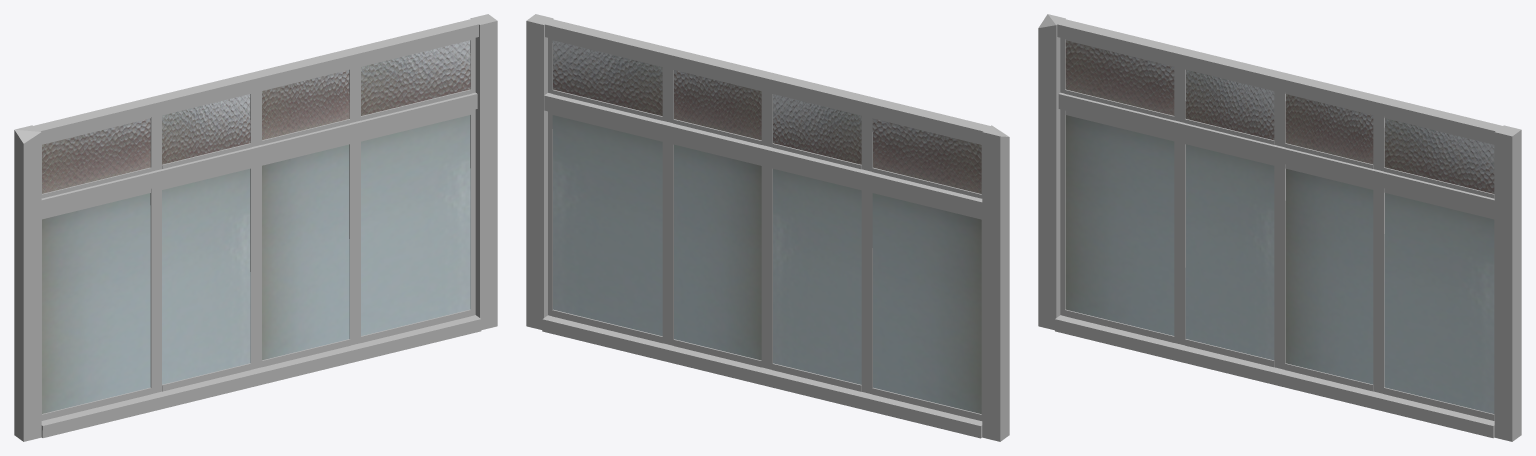
Rendered from Shop_Enter01a.fbx.
3 renders of one model, left to right at view 1: azimuth 30°, elevation 25°; view 2: azimuth 150°, elevation 25°; view 3: azimuth 330°, elevation 25°, orthographic.
Parts seen in each view (by area): view 1: Shop_Enter01a; view 2: Shop_Enter01a; view 3: Shop_Enter01a.
Part boxes in pixels (x1,y1,x2,y2): Shop_Enter01a: (14,14,497,441); Shop_Enter01a: (526,14,1009,441); Shop_Enter01a: (1038,14,1521,441).
Size of the model in its own units: 5.55 by 3.42 by 0.2457.
